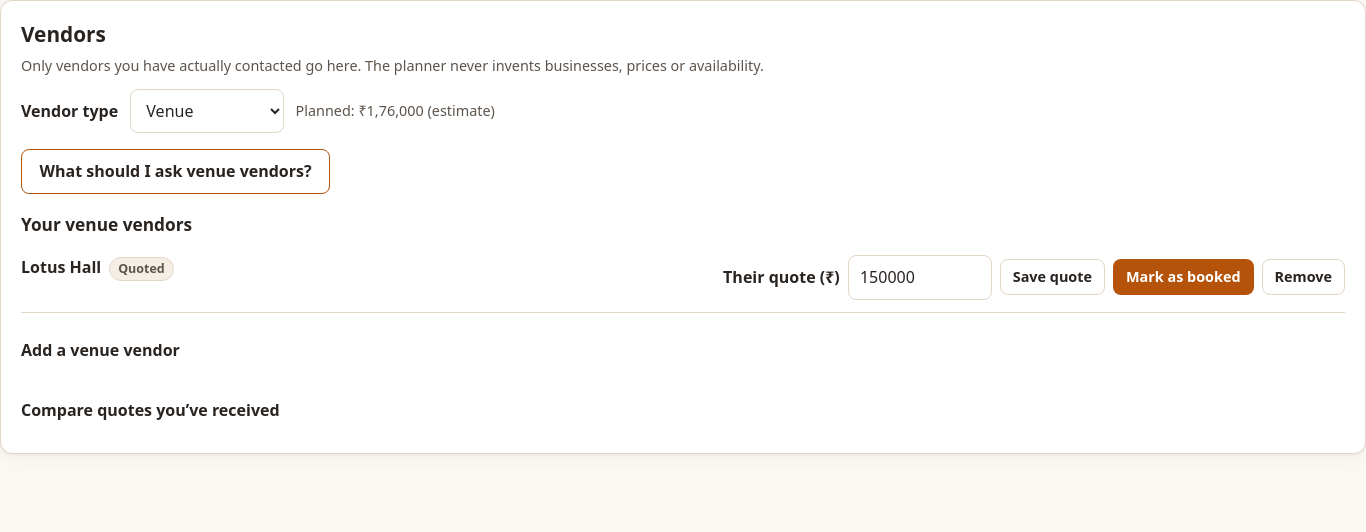
Scenario: VendorPanel › a vendor in the plan › explains when a booking can't be recorded: {}
The image size is (1366, 532).
Click the button "Mark as booked" at (1183, 278), box [1113,260,1254,296]
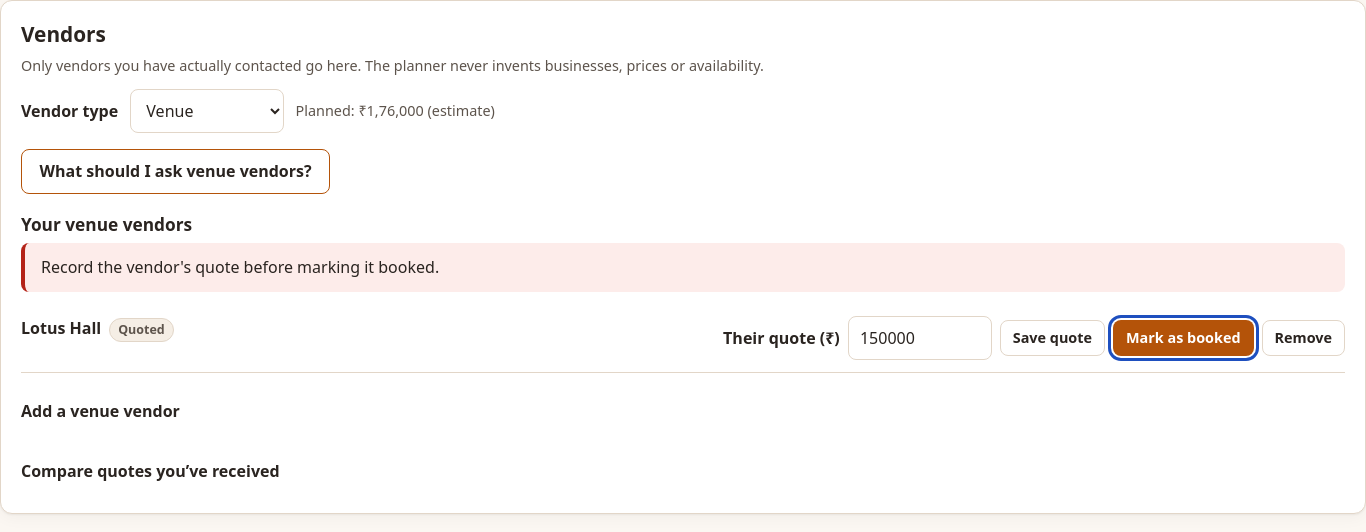
Check: the message reads "Record the vendor's quote before marking it booked.", box [41,256,439,278]
Click the button "Mark as booked" at (1183, 338), box [1113,320,1254,356]
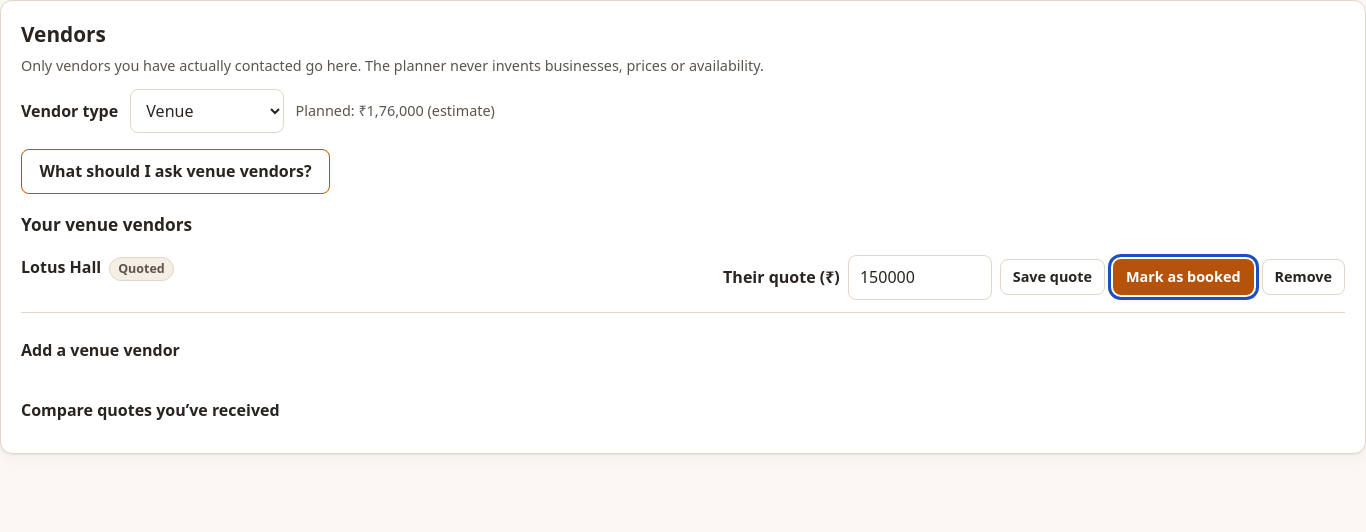
Check: the message "Record the vendor's quote before marking it booked." is gone
